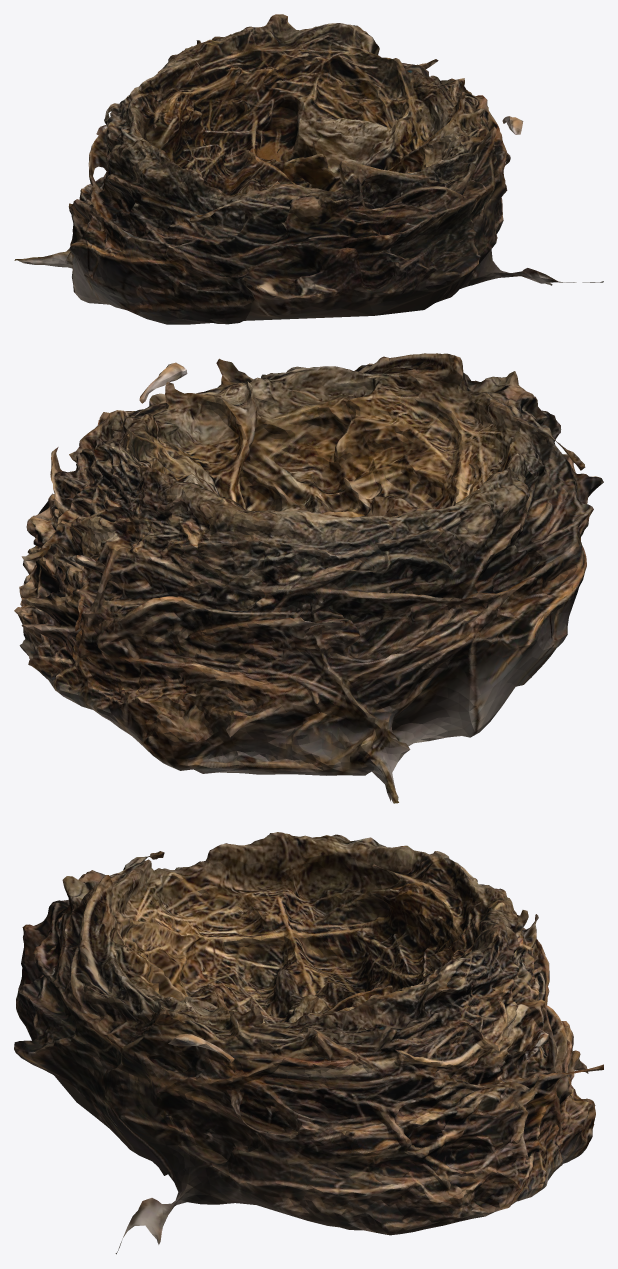
The model's file is Bird’s Nest.glb.
3 renders of one model, top to bottom at view 1: azimuth 30°, elevation 25°; view 2: azimuth 150°, elevation 25°; view 3: azimuth 270°, elevation 25°, orthographic. The views are drawn at different scales.
Size of the model in its own units: 0.5307 by 0.2561 by 0.5222.
1 material, 1 textured.
